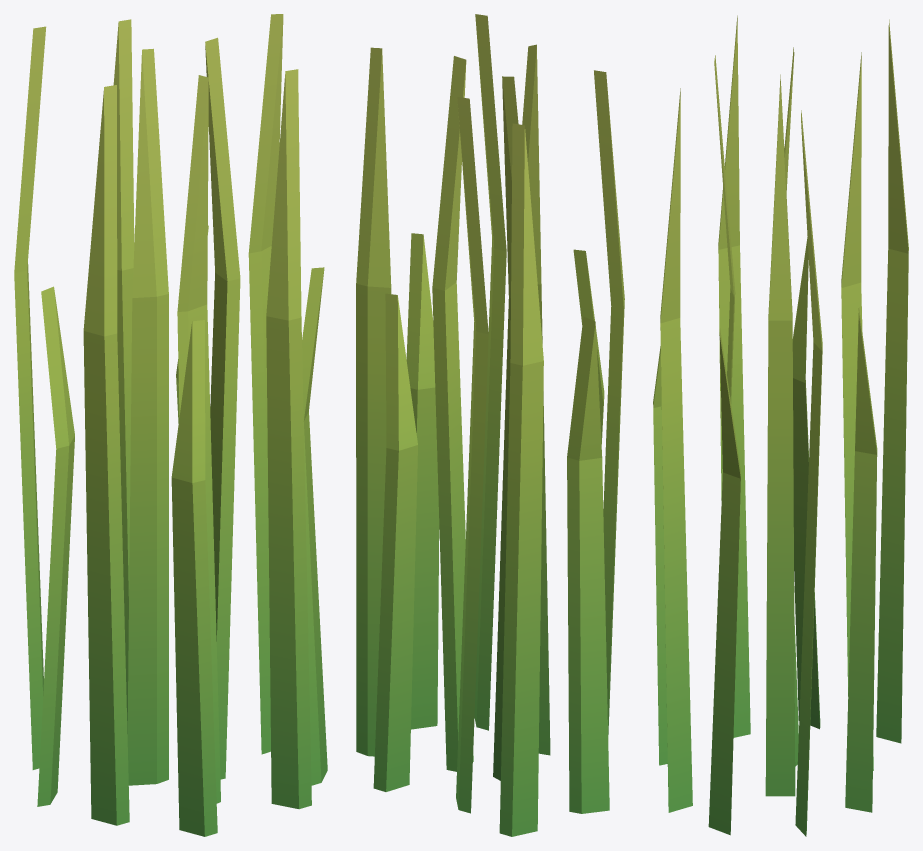
The model's file is Grass.fbx.
The picture shows the model from 3 angles, left to right: view 1: azimuth 30°, elevation 25°; view 2: azimuth 150°, elevation 25°; view 3: azimuth 270°, elevation 25°; orthographic projection. The views are drawn at different scales.
Visible parts, largest first — view 1: Grass; view 2: Grass; view 3: Grass.
Boxes of the visible parts, x1=… form: Grass: x1=14, y1=14, x2=327, y2=836; Grass: x1=356, y1=14, x2=624, y2=836; Grass: x1=653, y1=15, x2=908, y2=836.
Size of the model in its own units: 0.3738 by 1.01 by 0.3272.
